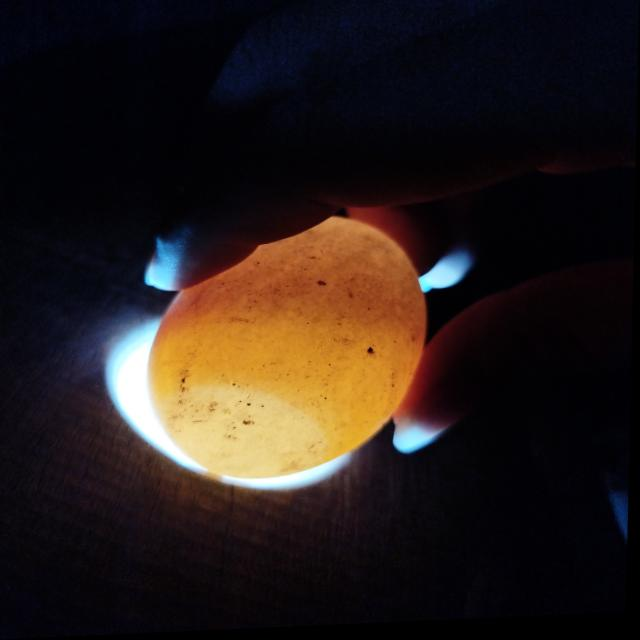Camara de Ar: (158, 387, 334, 481)
Gema Quebrada: (156, 269, 433, 350)
